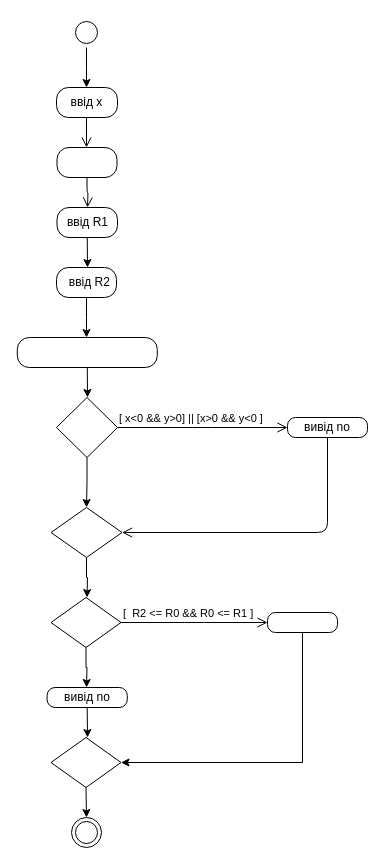
The diagram is 386 pixels wide and 865 high, and some of its shapes have lost their labels. The shapes that lost their labels are listed below. From the top down, each one's box as (x1, y1, x2, y2) in pixels, then its label:
(56, 146, 117, 178): ввід y
(16, 336, 157, 368): R0 = sqrt((x * x) + (y * y))
(266, 612, 338, 632): вивід yes
